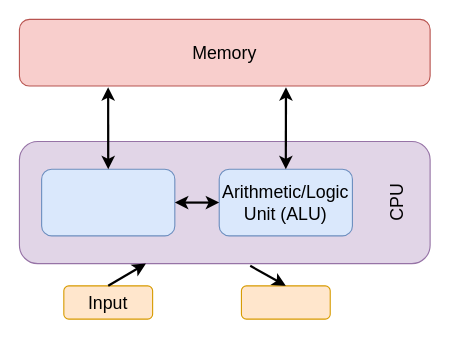
Some shapes in this 450 by 339 pixel diagram are drawn without their labels. The centre of each missing label's shape, as x and y in pixels:
"Control Unit" belongs at [108,202].
"Output" belongs at [285,302].
